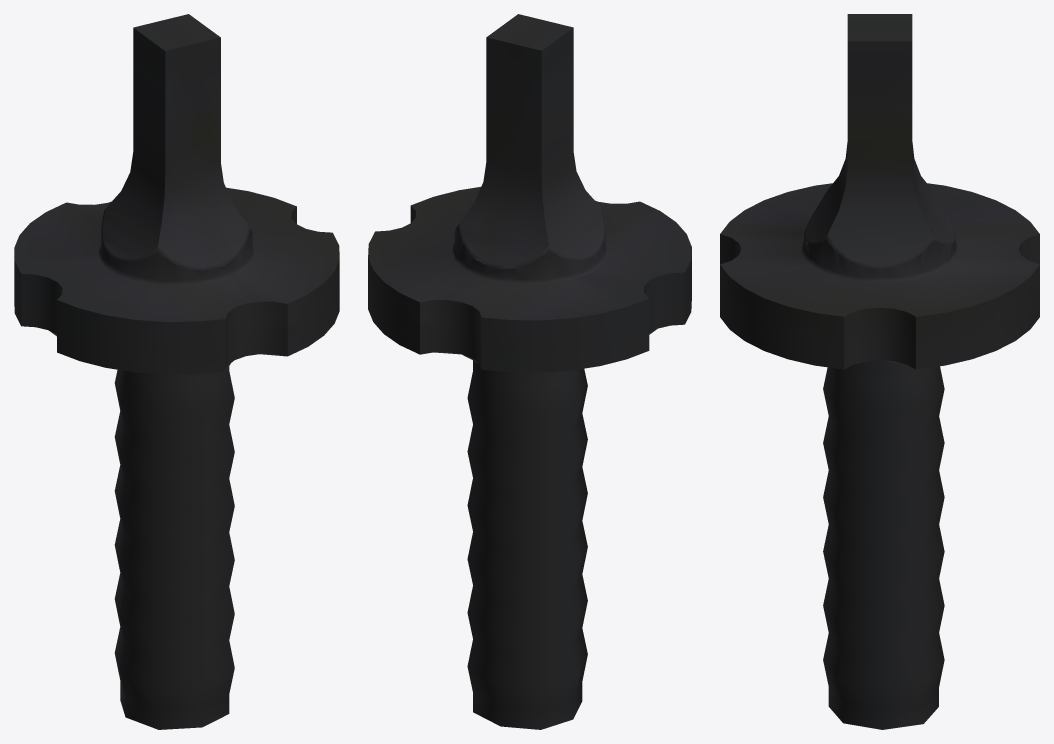
File: Front_Sight_Post.dae
3 views of the same model, side by side, from view 1: azimuth 30°, elevation 25°; view 2: azimuth 150°, elevation 25°; view 3: azimuth 270°, elevation 25° (orthographic).
Parts seen in each view (by area): view 1: Front_Sight_Post; view 2: Front_Sight_Post; view 3: Front_Sight_Post.
Part boxes in pixels (left/top/right/bottom): Front_Sight_Post: left=14, top=14, right=339, bottom=729; Front_Sight_Post: left=368, top=14, right=691, bottom=729; Front_Sight_Post: left=720, top=14, right=1039, bottom=729.
Bounding box in the file's own units: 0.00884 × 0.00884 × 0.0207.
Materials: 1 (1 with a texture image).
